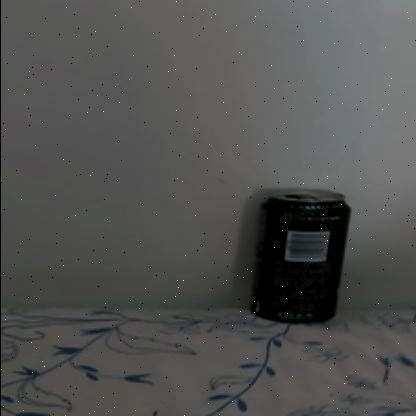Can: (250, 187, 348, 323)
